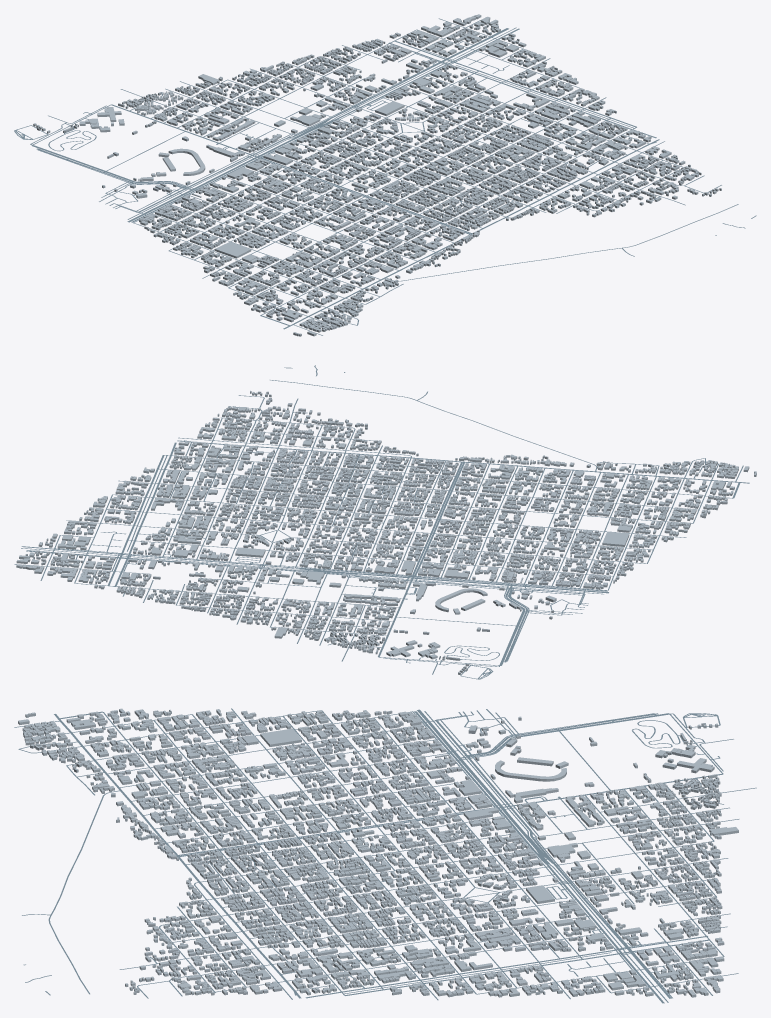
3 renders of one model, top to bottom at view 1: azimuth 30°, elevation 25°; view 2: azimuth 150°, elevation 25°; view 3: azimuth 270°, elevation 25°, orthographic. The views are drawn at different scales.
Bounding box in the file's own units: 2006 × 10 × 2135.
